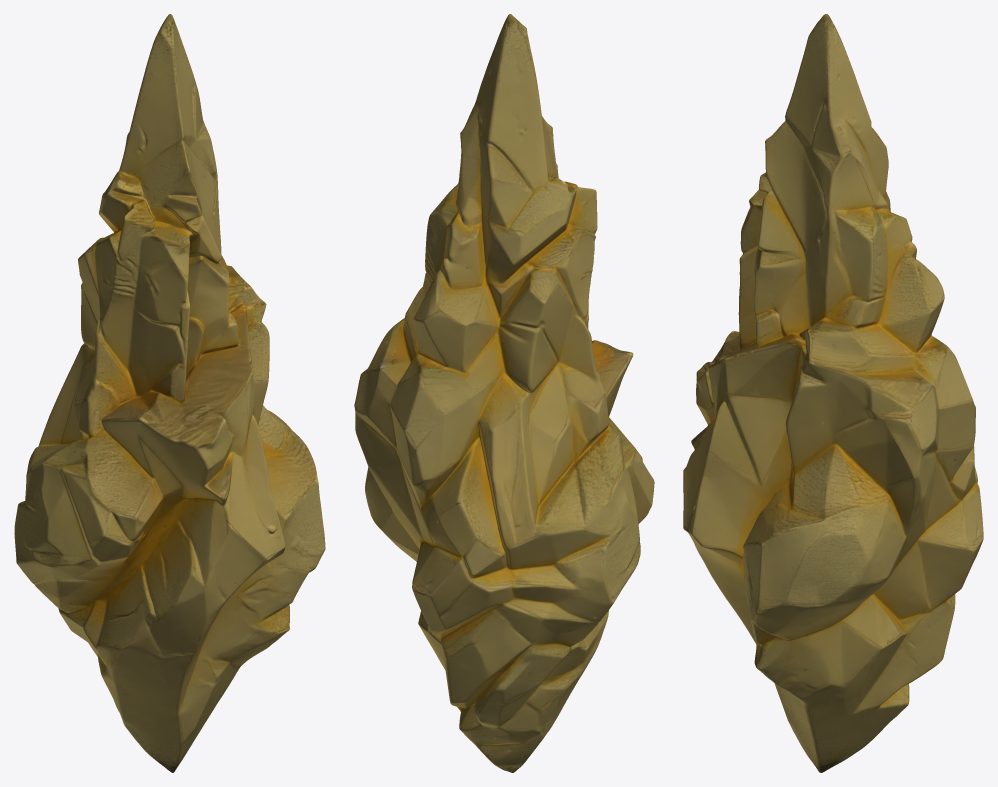
Rendered from Gold Ore 2 300k Compressed.glb.
3 views of the same model, side by side, from view 1: azimuth 30°, elevation 25°; view 2: azimuth 150°, elevation 25°; view 3: azimuth 270°, elevation 25° (orthographic).
Visible parts, largest first — view 1: node_0; view 2: node_0; view 3: node_0.
Part boxes in pixels (x1,y1,x2,y2): node_0: [14, 14, 325, 772]; node_0: [354, 14, 654, 772]; node_0: [683, 14, 983, 772].
Size of the model in its own units: 0.427 by 1.2 by 0.4293.
Materials: 1 (1 with a texture image).
